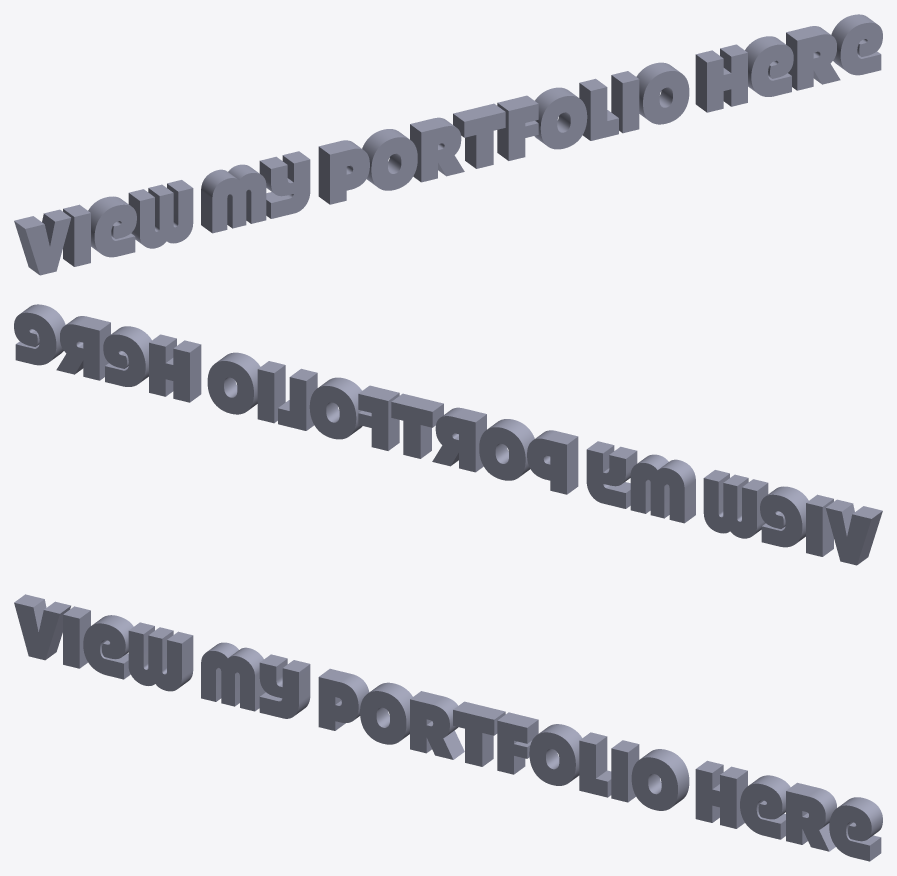
Rendered from viewPortfolio.glb.
3 views of the same model, one above another, from view 1: azimuth 30°, elevation 25°; view 2: azimuth 150°, elevation 25°; view 3: azimuth 330°, elevation 25° (orthographic).
Parts seen in each view (by area): view 1: viewPortfolio; view 2: viewPortfolio; view 3: viewPortfolio.
Boxes of the visible parts, box(x1,y1,x2,y2) form: viewPortfolio: box(14, 14, 882, 275); viewPortfolio: box(14, 304, 882, 565); viewPortfolio: box(14, 594, 882, 861).
Bounding box in the file's own units: 10.49 × 0.6072 × 0.2402.
